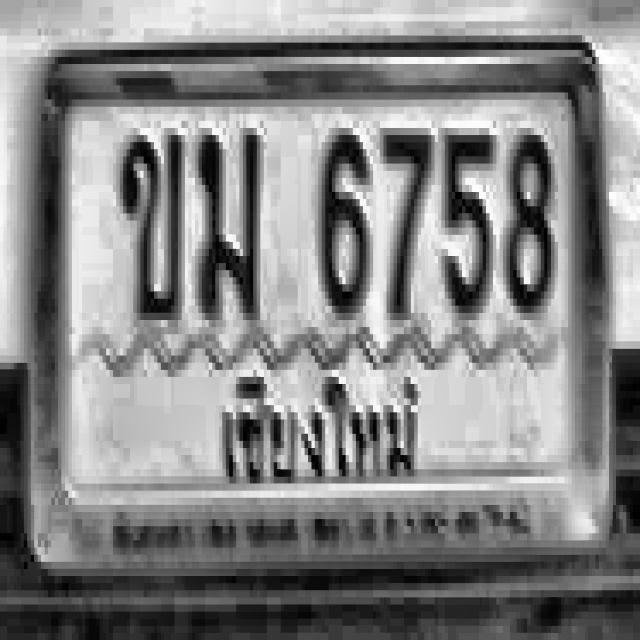license-plate: (35, 49, 606, 551)
